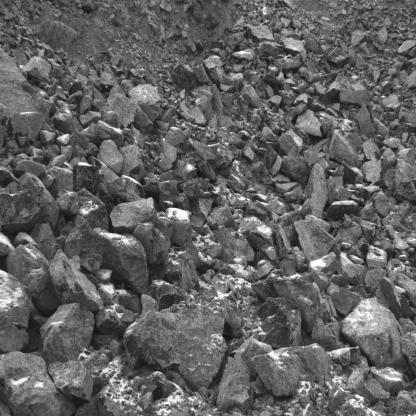stone: (168, 272, 246, 395), (0, 351, 75, 416), (342, 294, 402, 365), (214, 338, 269, 415), (253, 344, 330, 398), (278, 277, 335, 347), (6, 245, 60, 316), (95, 228, 149, 296), (39, 303, 95, 366), (48, 250, 103, 312), (123, 309, 180, 368), (0, 269, 35, 354), (256, 296, 301, 349), (63, 215, 103, 271), (48, 360, 95, 404), (102, 92, 152, 130), (294, 219, 335, 264), (0, 191, 41, 233), (99, 176, 144, 212), (320, 76, 375, 105), (133, 224, 170, 267), (301, 162, 328, 220), (111, 198, 157, 231), (214, 226, 254, 263), (144, 280, 189, 312), (237, 215, 274, 251), (130, 85, 163, 121), (395, 148, 416, 202), (327, 283, 359, 316), (283, 150, 311, 186), (73, 162, 105, 193), (165, 209, 193, 244), (370, 365, 406, 392), (118, 144, 144, 181), (159, 180, 190, 211), (97, 140, 124, 173), (330, 131, 357, 163), (24, 54, 53, 83), (275, 33, 308, 58), (96, 120, 124, 146), (364, 265, 385, 298), (297, 111, 323, 137), (325, 201, 358, 221), (174, 63, 198, 90), (68, 129, 91, 157), (279, 129, 303, 155), (367, 245, 389, 270), (246, 25, 276, 43), (254, 41, 285, 58), (327, 47, 350, 68), (343, 163, 364, 185), (344, 132, 364, 154), (393, 121, 416, 140), (212, 83, 224, 117), (368, 130, 390, 147), (224, 32, 244, 50), (363, 139, 380, 160), (292, 127, 309, 145), (354, 284, 371, 299), (369, 180, 389, 190)
